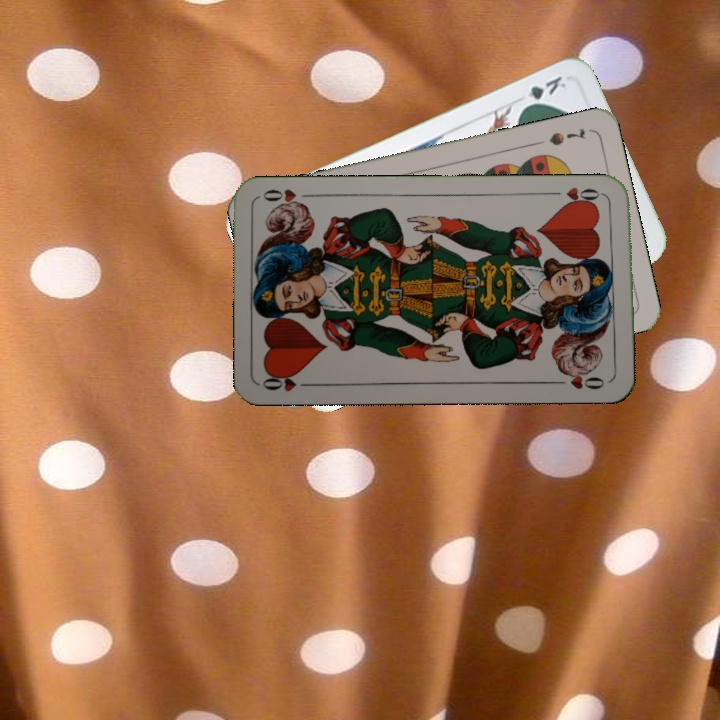GK: (517, 71, 569, 112)
HO: (548, 182, 607, 209), (259, 369, 318, 394)
S7: (544, 124, 588, 149)
